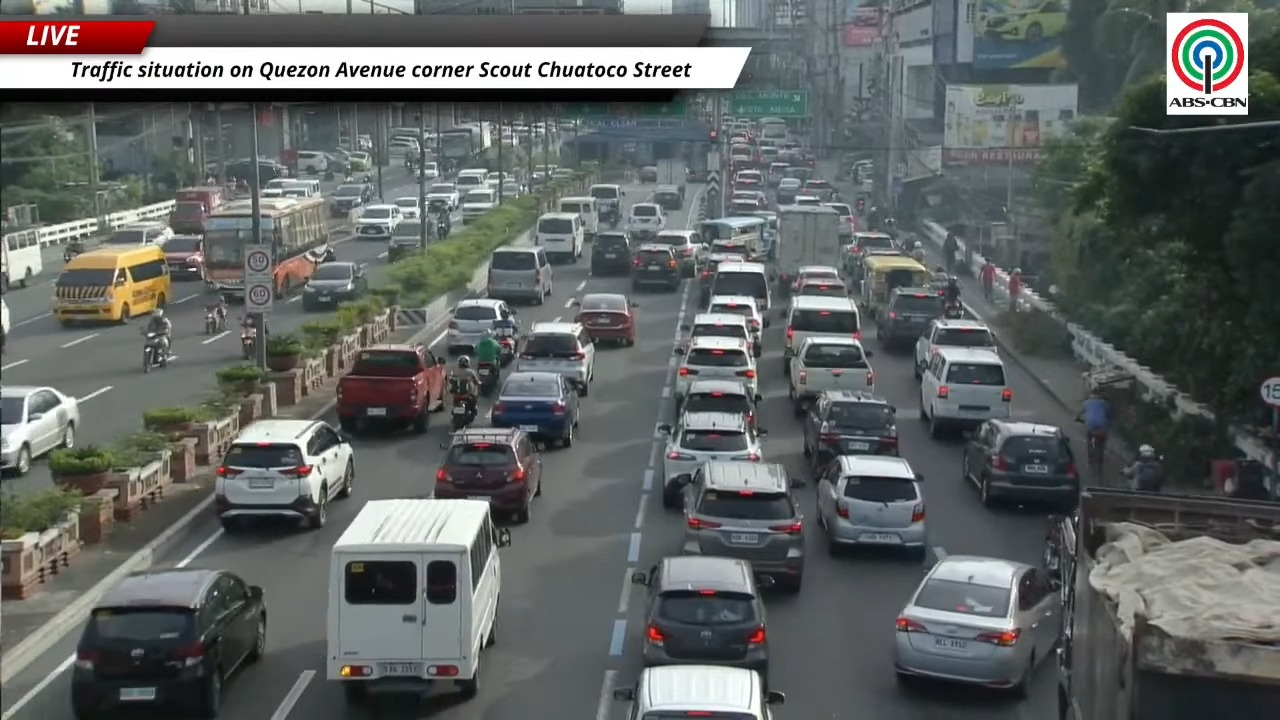bus: (260, 197, 329, 297), (0, 229, 42, 290)
car: (70, 568, 267, 719), (893, 555, 1061, 694), (678, 461, 804, 592), (633, 557, 768, 675), (214, 419, 354, 530), (816, 454, 927, 556), (962, 420, 1079, 510), (433, 426, 542, 522), (659, 411, 764, 506), (613, 665, 784, 719), (919, 348, 1012, 437), (802, 390, 898, 470), (0, 385, 80, 475), (786, 335, 874, 416), (491, 372, 579, 447), (783, 296, 860, 373), (515, 322, 595, 395), (673, 336, 758, 401), (914, 317, 997, 379), (875, 287, 943, 347), (678, 379, 761, 426), (486, 246, 553, 304), (982, 0, 1066, 45), (446, 299, 514, 353), (706, 295, 765, 356), (680, 313, 761, 357), (573, 293, 637, 345), (302, 262, 368, 311), (1042, 510, 1079, 581), (648, 229, 701, 277), (631, 243, 681, 291), (697, 252, 742, 305), (590, 230, 633, 277), (163, 234, 203, 279), (846, 231, 899, 264), (354, 204, 402, 240), (387, 220, 424, 262), (588, 184, 625, 226), (329, 183, 371, 216), (627, 202, 665, 238), (791, 265, 839, 293), (461, 187, 497, 224), (824, 203, 856, 237), (792, 277, 848, 296), (426, 184, 460, 211), (730, 189, 766, 211), (653, 185, 683, 211), (801, 178, 833, 202), (296, 151, 328, 173), (775, 178, 801, 204), (733, 169, 764, 190), (393, 197, 420, 219), (767, 162, 788, 187), (729, 198, 760, 214), (348, 151, 371, 171), (793, 192, 822, 206), (421, 161, 439, 179), (638, 166, 658, 182)
motorcycle: (450, 392, 477, 432), (143, 332, 167, 372), (477, 362, 500, 397), (204, 307, 224, 334), (498, 337, 515, 367), (242, 327, 256, 359), (64, 240, 84, 261), (943, 300, 963, 318), (322, 169, 335, 181)
truck: (1046, 488, 1279, 719), (335, 344, 447, 433), (773, 205, 842, 293), (168, 186, 225, 234), (440, 126, 484, 166), (656, 159, 687, 187)
